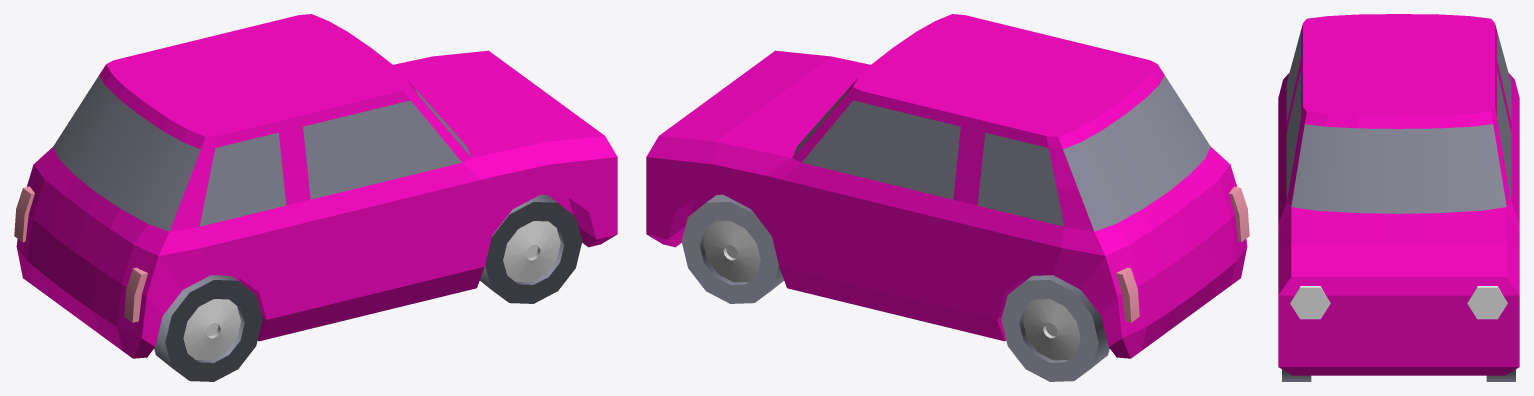
The model's file is CityCarPink.gltf.
The picture shows the model from 3 angles, left to right: view 1: azimuth 30°, elevation 25°; view 2: azimuth 150°, elevation 25°; view 3: azimuth 270°, elevation 25°; orthographic projection. The views are drawn at different scales.
Visible parts, largest first — view 1: Cabin, Windows/Wheels, Wheels, Disk, Red lights; view 2: Cabin, Windows/Wheels, Wheels, Disk, Red lights; view 3: Cabin, Windows/Wheels, Front lights, Wheels.
Boxes of the visible parts, x1,y1,x2,y2 form: Cabin: (16,14,617,358); Windows/Wheels: (53,75,471,231); Wheels: (154,194,582,381); Disk: (183,221,560,360); Red lights: (14,186,147,322); Cabin: (646,14,1247,358); Windows/Wheels: (792,75,1210,231); Wheels: (681,194,1109,381); Disk: (703,221,1080,360); Red lights: (1116,186,1249,322); Cabin: (1278,14,1519,375); Windows/Wheels: (1286,31,1511,213); Front lights: (1290,286,1507,319); Wheels: (1282,369,1515,381).
Size of the model in its own units: 0.033 by 0.0153 by 0.0154.
